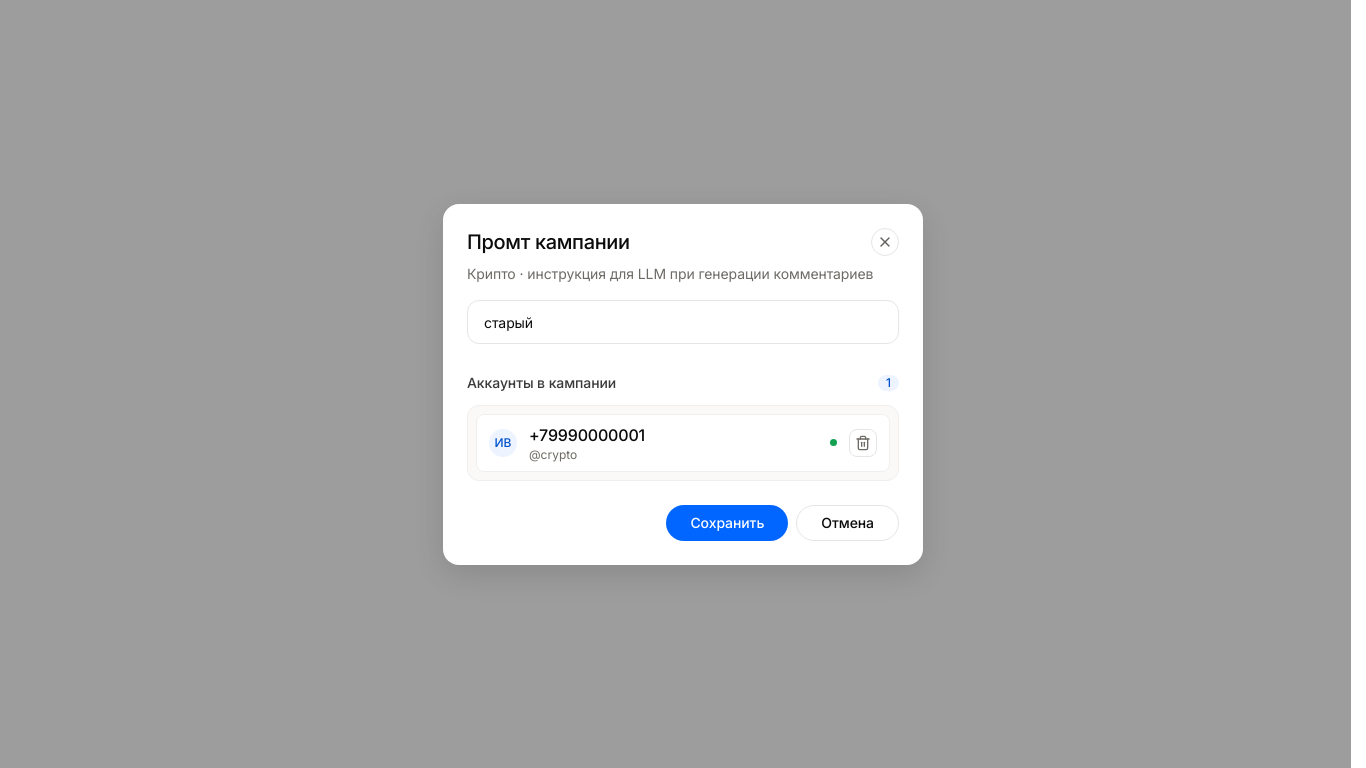
Test: edits the textarea, saves with swap, then closes after the delay
The image size is (1366, 768).
expect the text "Промт кампании" is shown: met, box [467,228,630,256]
expect the text "+79990000001" is shown: met, box [529,424,645,444]
Clear the text box named "Текст промта" at [683, 322], box [467,300,899,344]
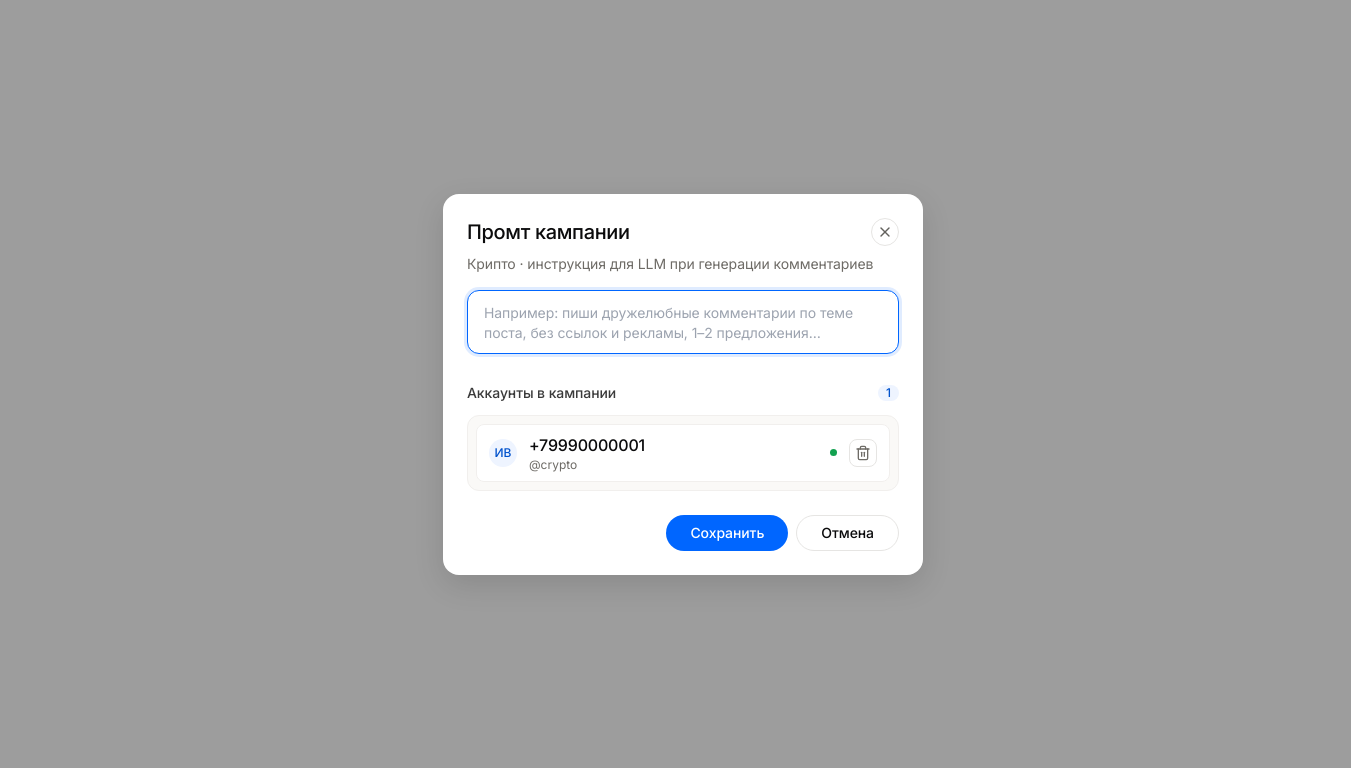
Type "новый промт" into the text box named "Текст промта" at [683, 322], box [467,290,899,354]
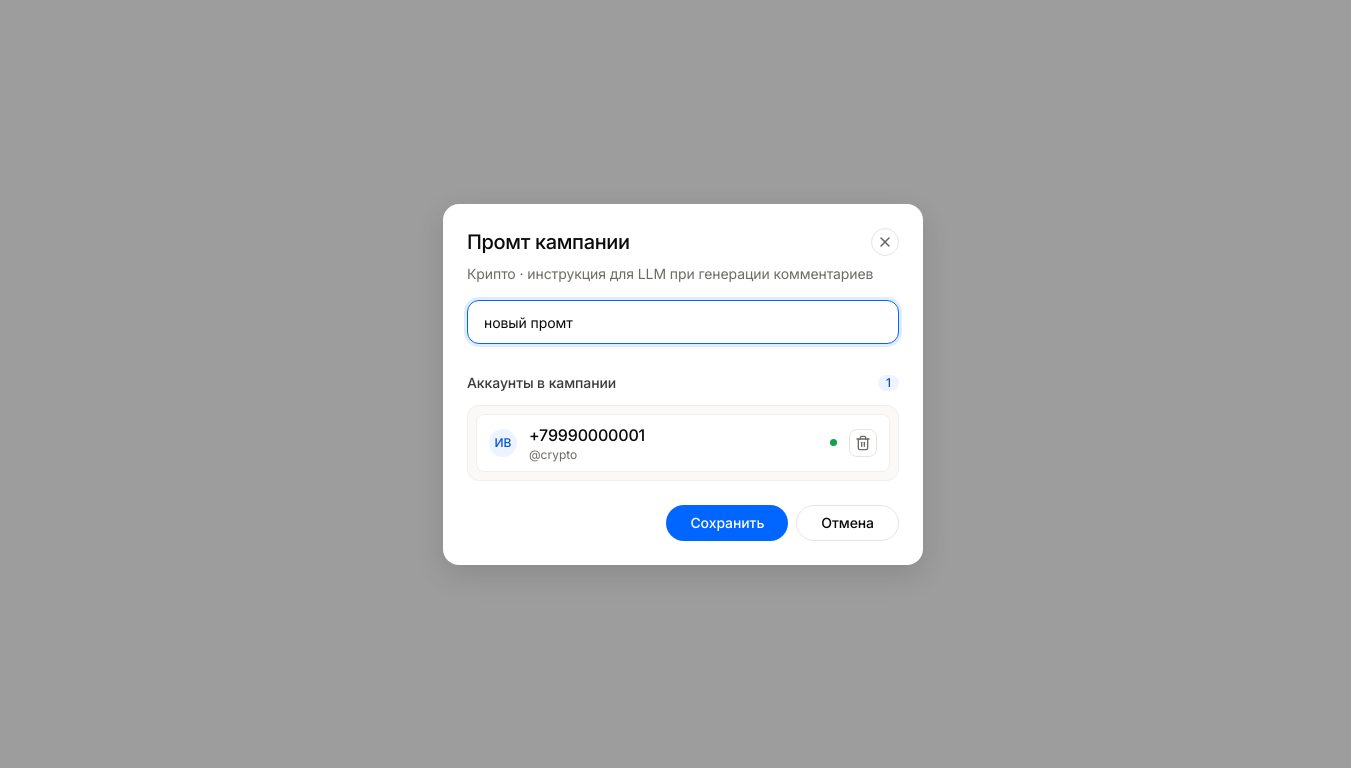
Click the button "Сохранить" at [727, 522], box [666,504,788,540]
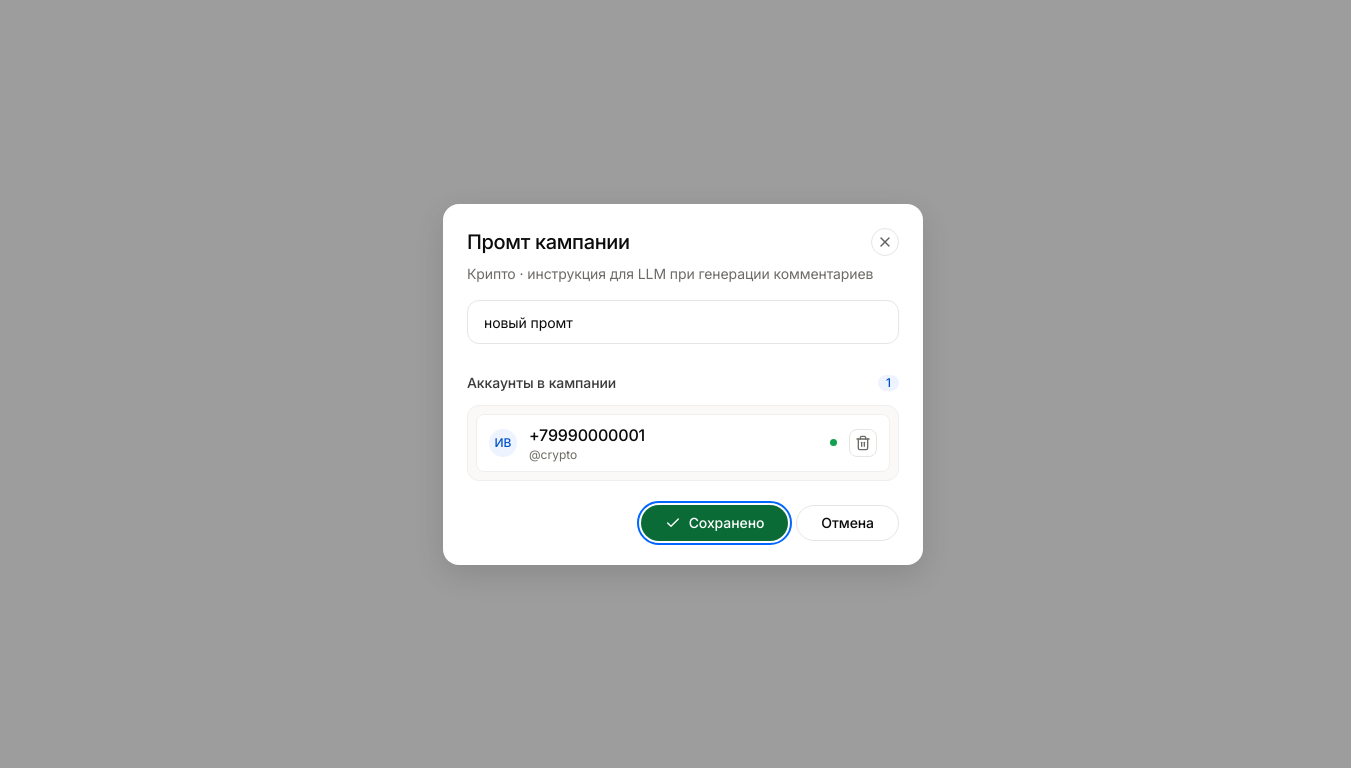
expect the text "Сохранено" is shown: met, box [689,512,764,532]
